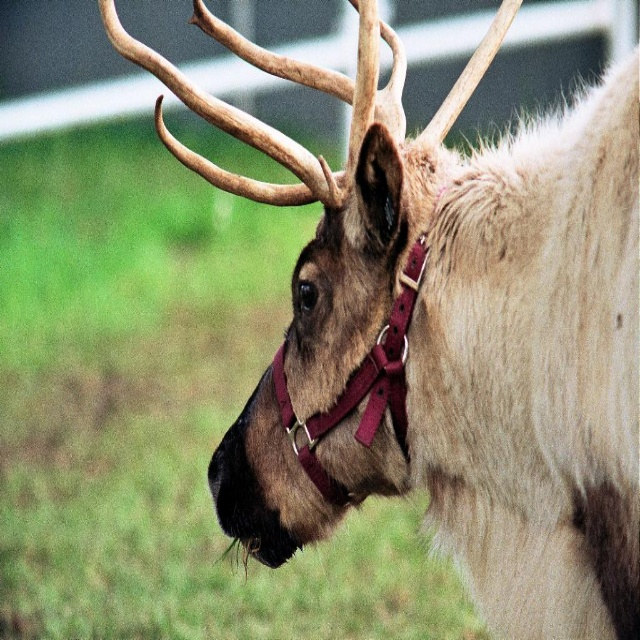Deer: (100, 0, 640, 639)
